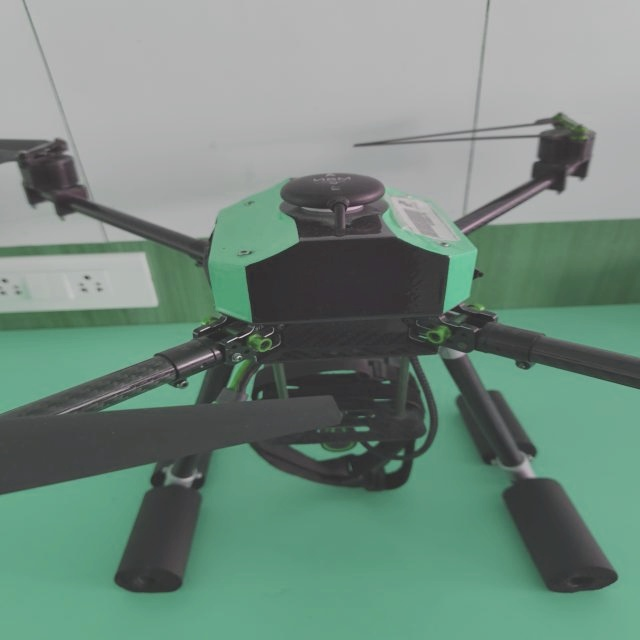quadcopter: (0, 101, 638, 602)
